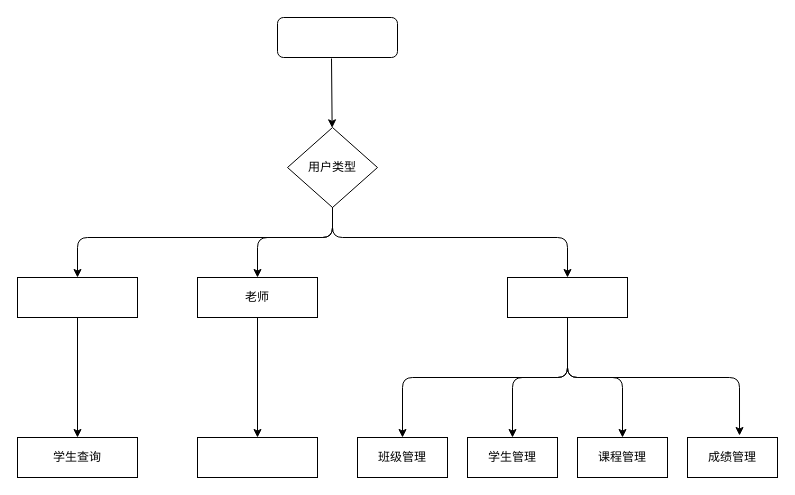
The diagram is 795 pixels wide and 495 high, and some of its shapes have lost their labels. Here are the shapes that lost their labels. From the top down, the centre of each, then its label:
point 337,37: 开始
point 77,297: 学生
point 567,297: 管理员
point 257,457: 课程查询
